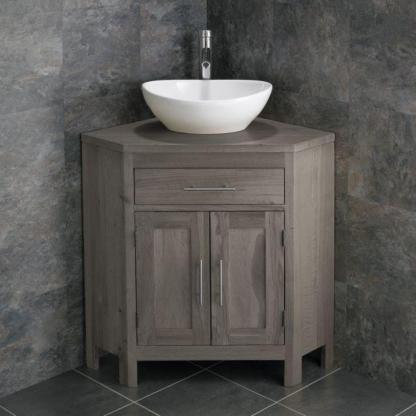Cabinet: (82, 133, 334, 387)
